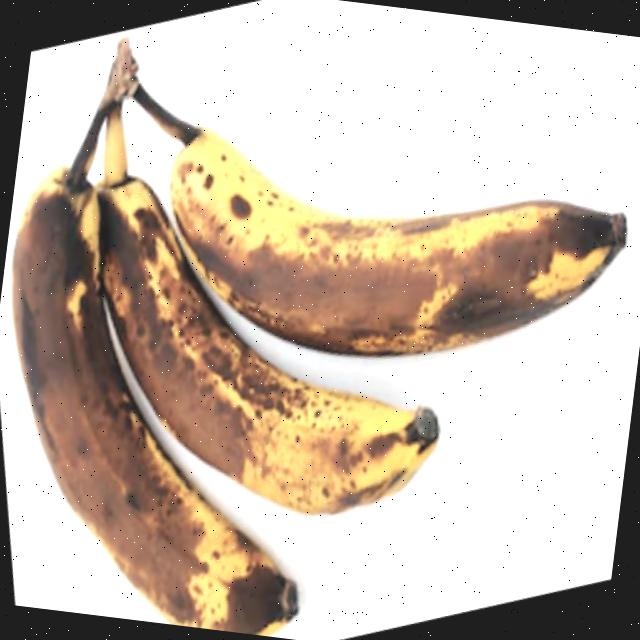rotten banana: (0, 147, 355, 639), (49, 144, 478, 538), (142, 78, 640, 393)
